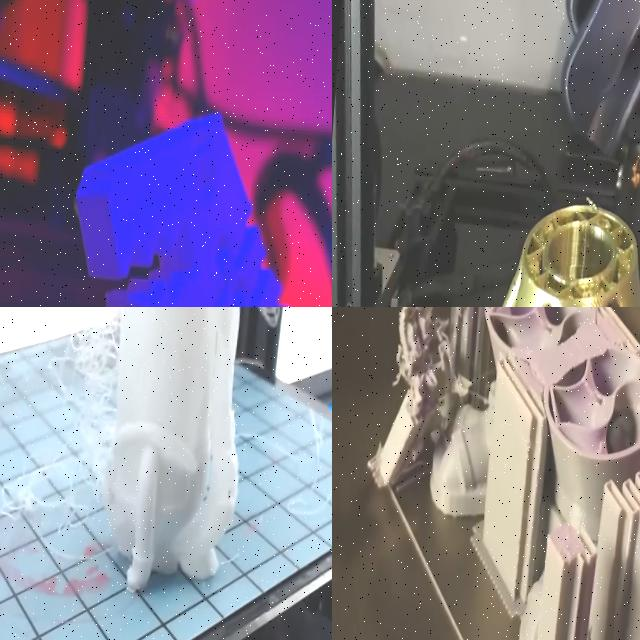spaghetti: (0, 307, 144, 559), (223, 307, 332, 548)
